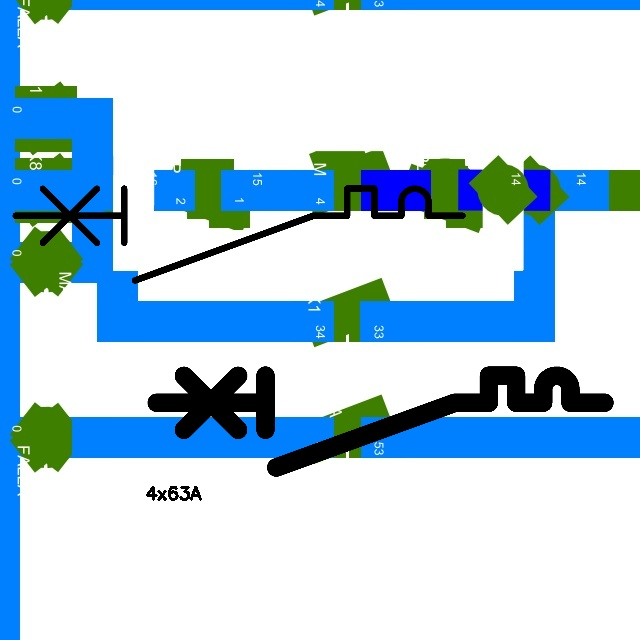interruptor_termomagnetico: (145, 364, 616, 479), (4, 177, 474, 292)
